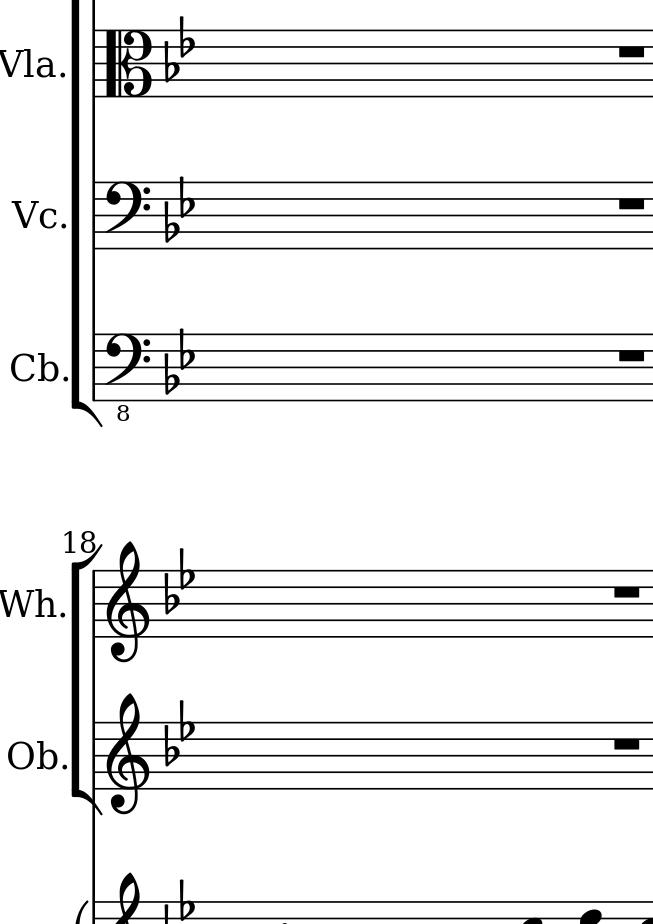1: (62, 529, 75, 555)
8: (78, 529, 96, 556)
B_F: (162, 13, 194, 82), (164, 327, 196, 396), (163, 547, 195, 615), (163, 698, 194, 766), (164, 173, 193, 243)
Bracke: (71, 544, 102, 817)
Cb: (11, 346, 57, 386)
Cclef: (102, 27, 154, 99)
Fclef: (102, 179, 152, 251)
Gclef: (103, 692, 149, 816), (104, 541, 149, 664)
Lower_Fclef: (103, 330, 151, 422)
Ob: (6, 736, 61, 774)
Rests1: (608, 581, 645, 602), (613, 193, 648, 214), (613, 345, 648, 366), (613, 41, 648, 61), (609, 733, 644, 753)
Single_barline: (88, 721, 101, 799), (87, 334, 102, 400), (86, 31, 101, 96), (86, 572, 101, 637), (87, 184, 101, 249)
Vc: (12, 195, 57, 232)
Vla: (1, 42, 59, 87)
Wh: (1, 585, 58, 618)
